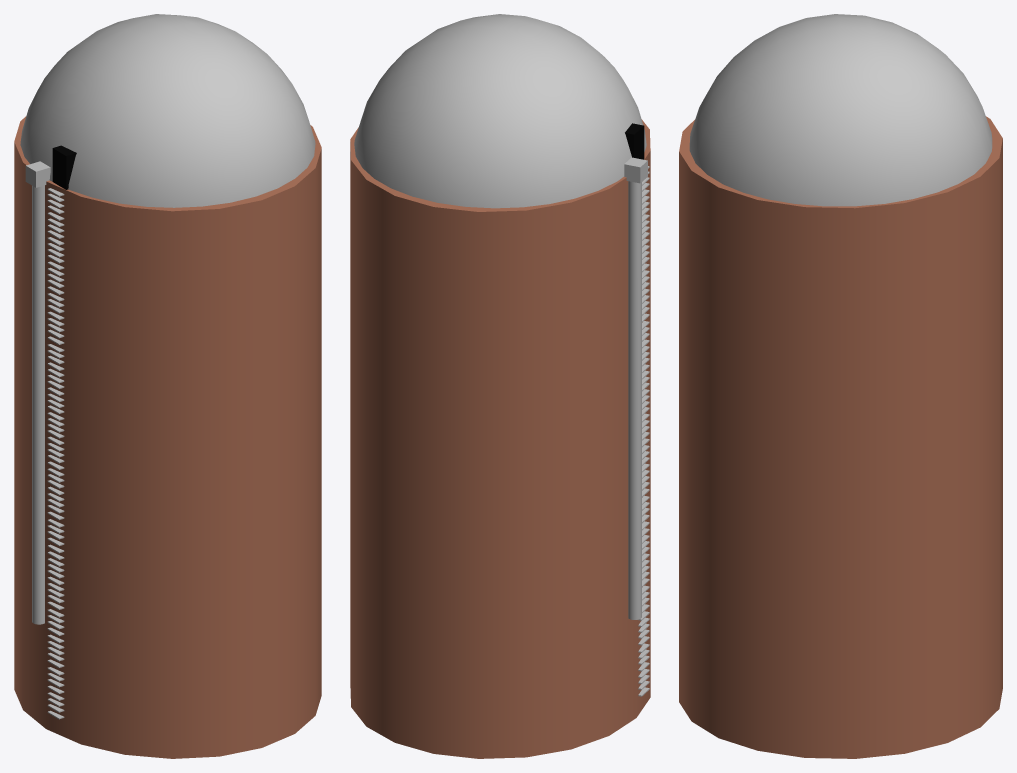
Rendered from Grain Silo.fbx.
3 views of the same model, side by side, from view 1: azimuth 30°, elevation 25°; view 2: azimuth 150°, elevation 25°; view 3: azimuth 270°, elevation 25° (orthographic).
Parts seen in each view (by area): view 1: Silo_Body, Distributer, Filler, Door, Filler_Cap; view 2: Silo_Body, Distributer, Filler, Door, Filler_Cap; view 3: Silo_Body, Distributer.
Boxes of the visible parts, x1,y1,x2,y2 form: Silo_Body: [14, 116, 321, 758]; Distributer: [20, 14, 315, 207]; Filler: [32, 185, 44, 624]; Door: [52, 145, 76, 189]; Filler_Cap: [25, 161, 50, 187]; Silo_Body: [350, 119, 650, 758]; Distributer: [354, 14, 646, 208]; Filler: [628, 181, 641, 619]; Door: [625, 123, 644, 159]; Filler_Cap: [624, 157, 647, 183]; Silo_Body: [679, 116, 1002, 758]; Distributer: [689, 14, 992, 206].
Size of the model in its own units: 717 by 1685 by 740.
